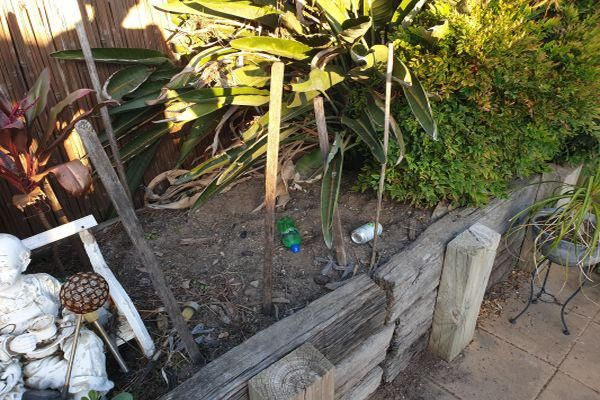Plastic Bottle: (275, 216, 301, 254), (350, 221, 384, 244)
